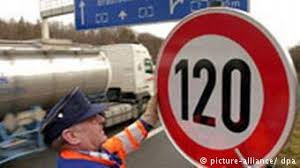Speed_limit_120km: (149, 7, 298, 168)
